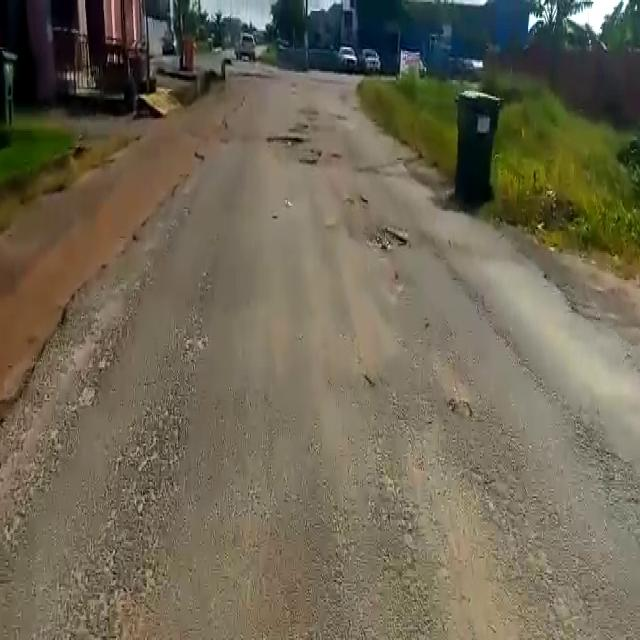Pothole: (363, 225, 411, 253), (266, 130, 310, 146), (296, 156, 318, 167)
